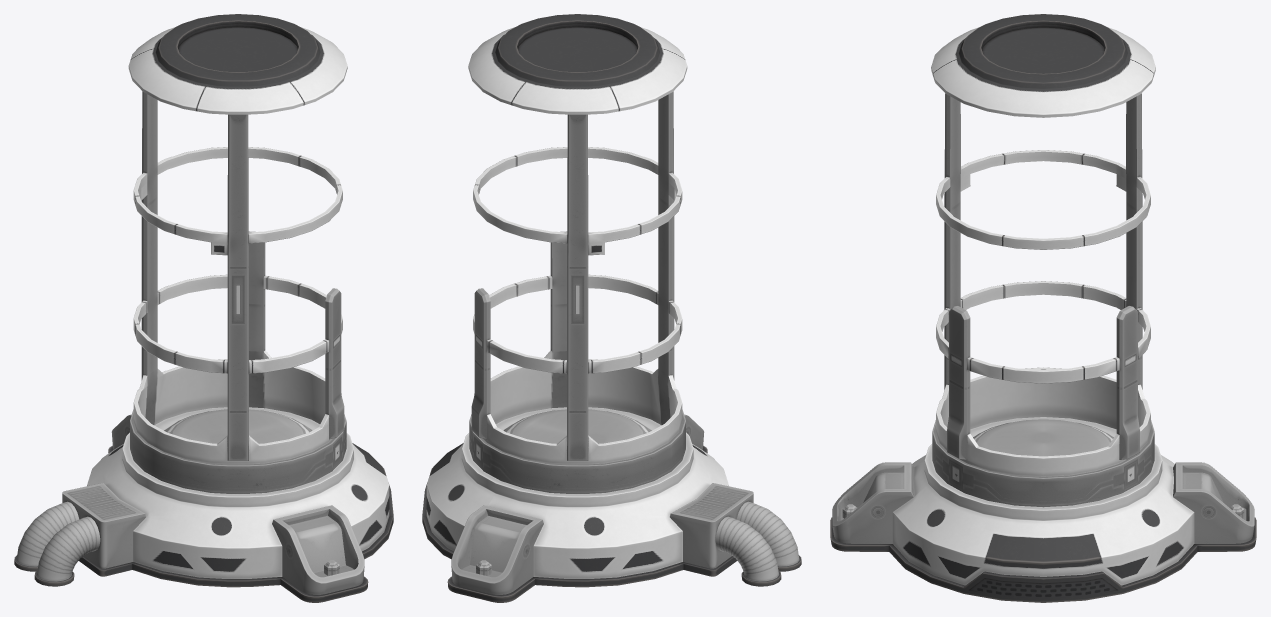
File: SM_LabCapsule01_Capsule.FBX
3 views of the same model, side by side, from view 1: azimuth 30°, elevation 25°; view 2: azimuth 150°, elevation 25°; view 3: azimuth 270°, elevation 25° (orthographic). The views are drawn at different scales.
Parts seen in each view (by area): view 1: SM_LabCapsule01_Capsule; view 2: SM_LabCapsule01_Capsule; view 3: SM_LabCapsule01_Capsule.
Boxes of the visible parts, box(x1,y1,x2,y2) form: SM_LabCapsule01_Capsule: box(14, 14, 393, 602); SM_LabCapsule01_Capsule: box(422, 14, 801, 602); SM_LabCapsule01_Capsule: box(830, 14, 1256, 602).
Size of what is drawn, in the model's own units: 223 by 231 by 293.
